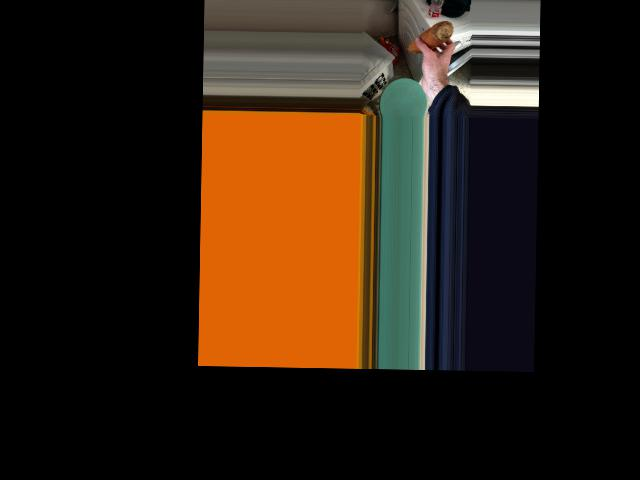sweet_potato: (407, 19, 453, 52)
